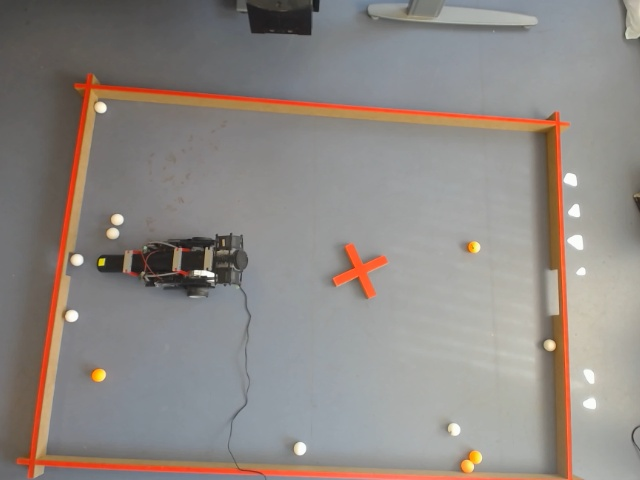orange: (462, 451, 481, 472), (88, 367, 109, 385), (459, 454, 476, 474), (467, 449, 483, 467), (465, 239, 482, 255)
robot: (125, 233, 249, 296)
white: (365, 0, 414, 22), (631, 423, 640, 454), (292, 440, 308, 457), (563, 171, 579, 188), (570, 233, 584, 252), (446, 421, 462, 437), (581, 396, 598, 411), (64, 309, 81, 324), (69, 253, 85, 268), (109, 212, 125, 227), (105, 225, 121, 240), (583, 367, 596, 385), (542, 338, 557, 353), (570, 202, 582, 219), (94, 100, 107, 115), (575, 266, 588, 278)
